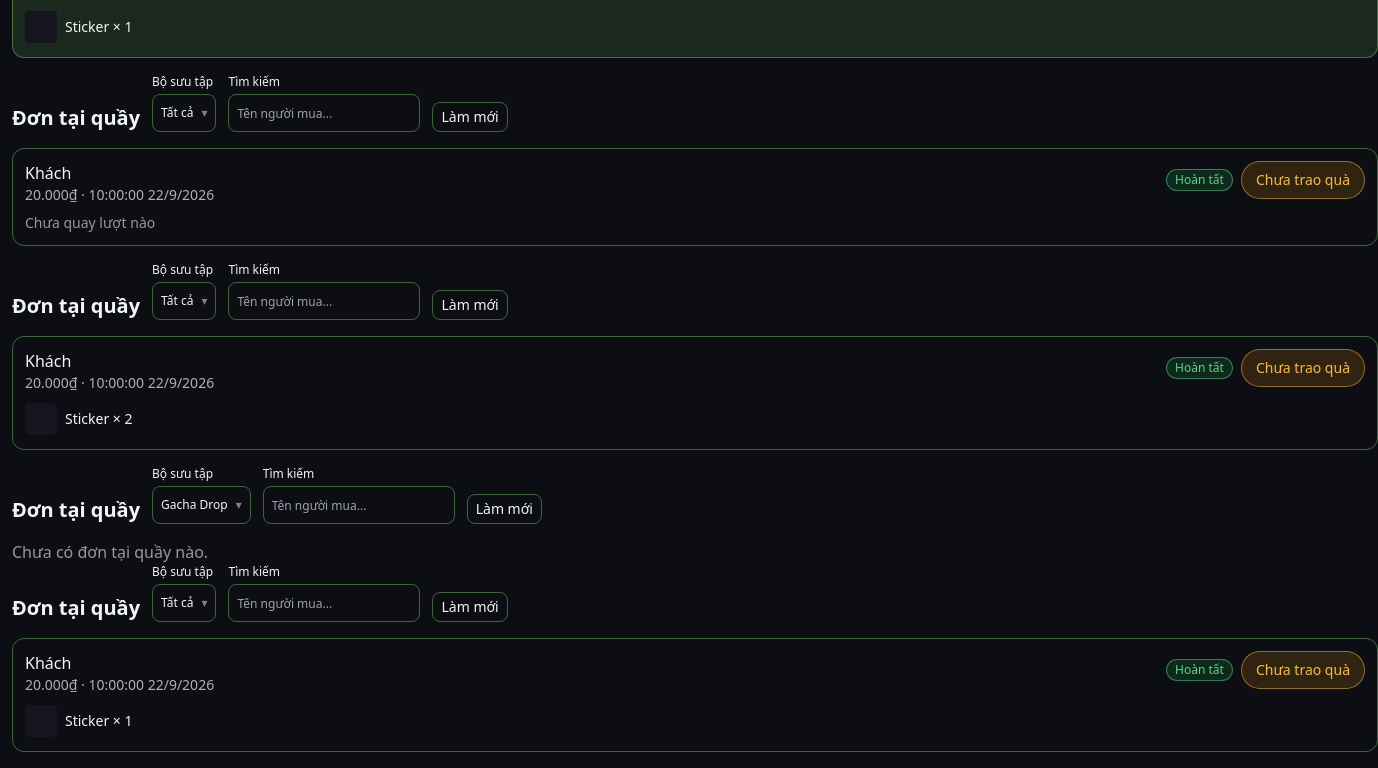
AdminBoothOrders › toggles the prepared pill via adminSetOrderPrepared
(page scrolled)
Click the button with test id "prepared-5": (1303, 670) [1241,651,1365,689]
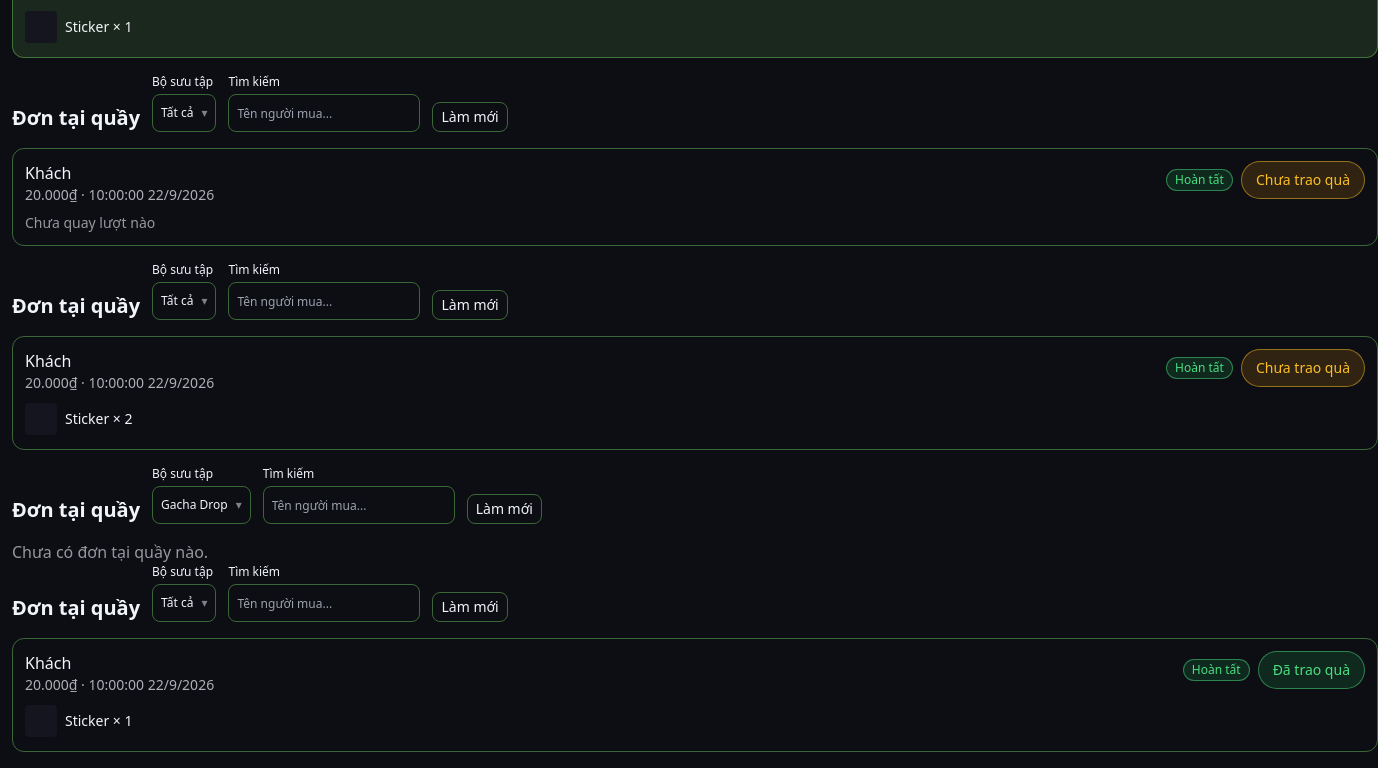
Now the button with test id "prepared-5" reads "Đã trao quà", box [1258,651,1365,689]
